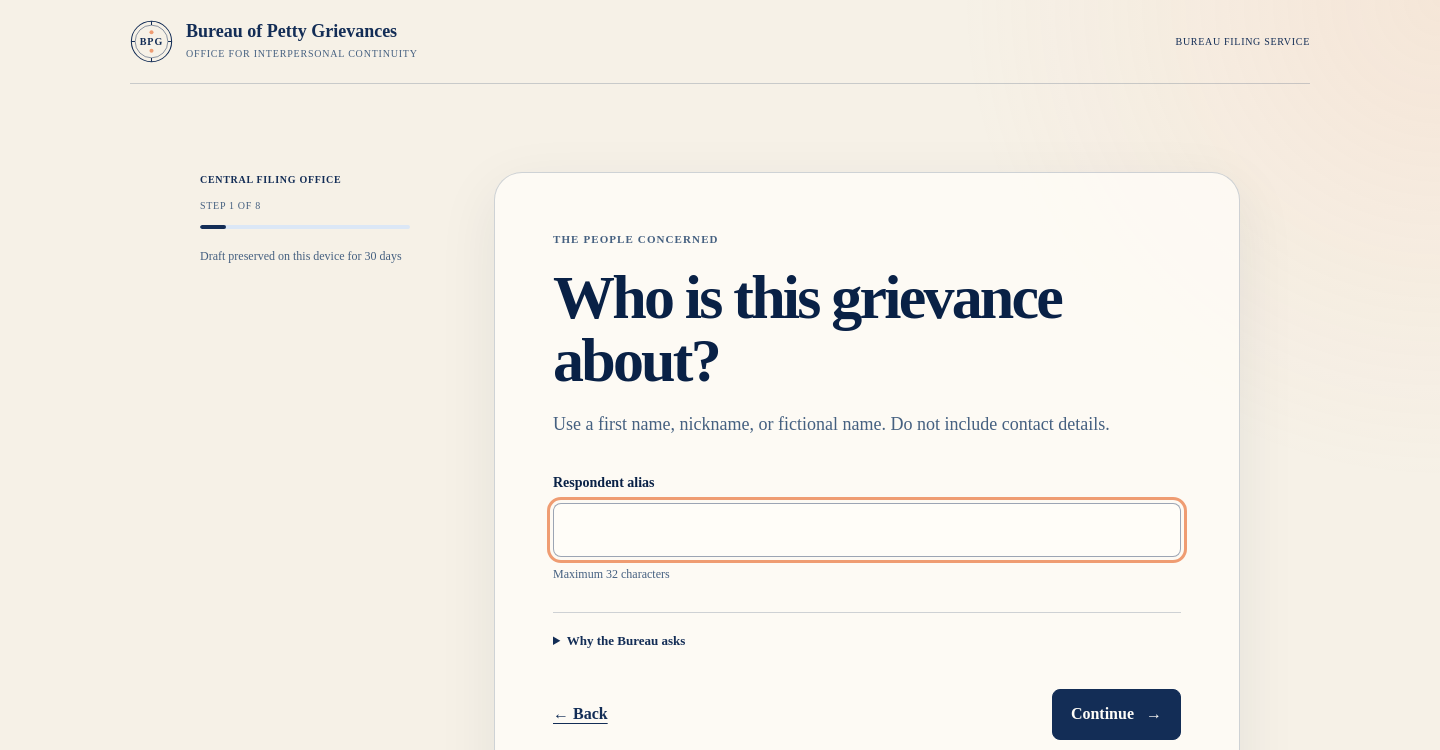
Test case: filing journey › shows localized validation without discarding the current question
The image size is (1440, 750).
Click the button "Continue →": (1116, 714) x1=1052 y1=689 x2=1181 y2=740
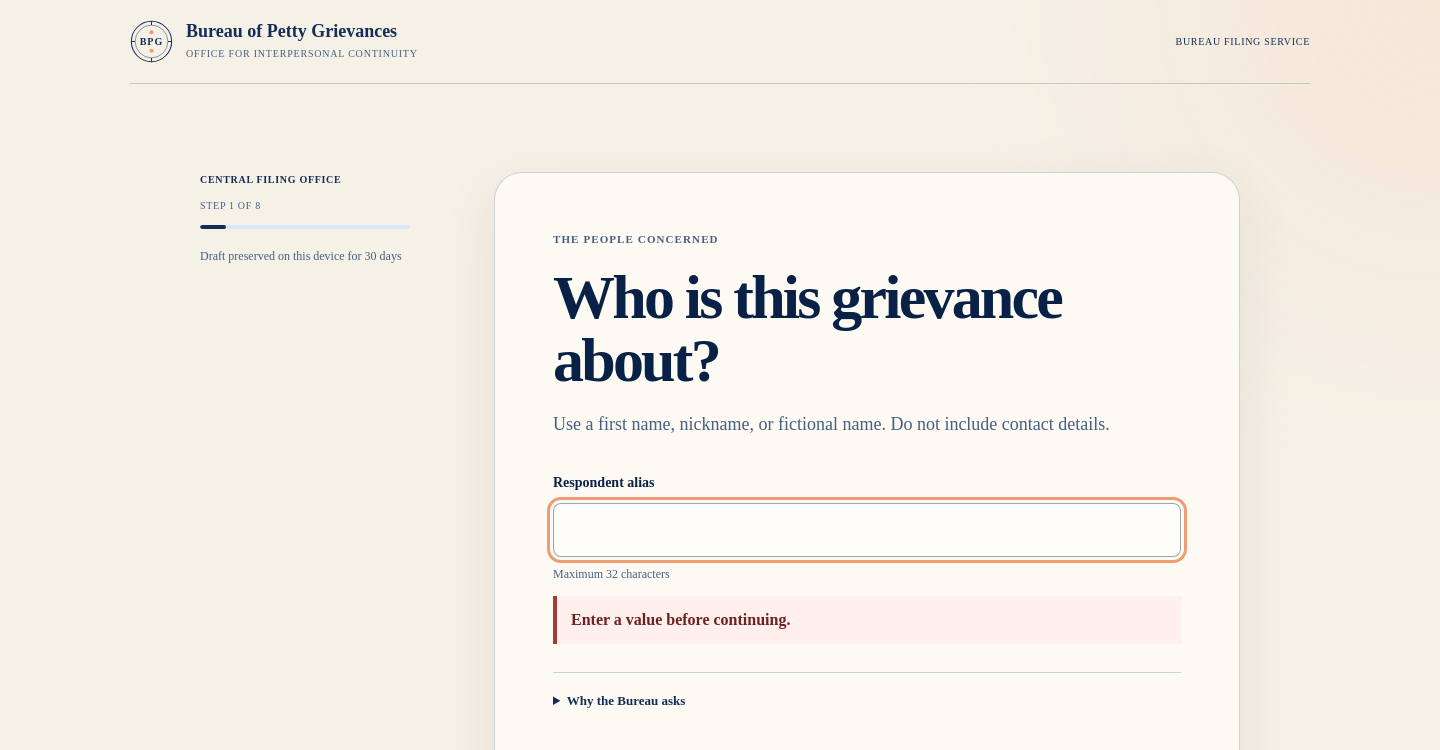
Expected: the heading "Who is this grievance about?" is shown, x1=553 y1=263 x2=1061 y2=394
Expected: the message reads "Enter a value before continuing.", x1=571 y1=611 x2=790 y2=628
